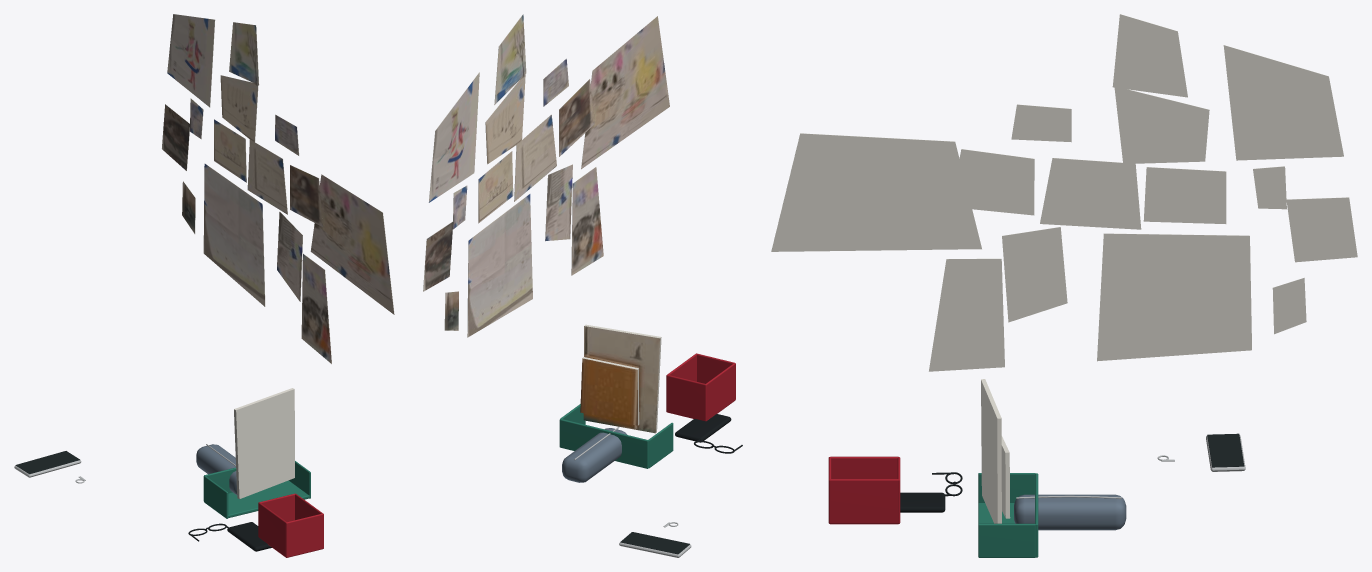
3 views of the same model, side by side, from view 1: azimuth 30°, elevation 25°; view 2: azimuth 150°, elevation 25°; view 3: azimuth 270°, elevation 25° (orthographic). The views are drawn at different scales.
Visible parts, largest first — view 1: source_original_wall_paper_05, source_original_wall_paper_10, source_original_white_back_paper, source_original_wall_paper_00, source_original_wall_paper_12, source_original_wall_paper_07, source_original_wall_paper_02, source_original_wall_paper_11, source_original_wall_paper_01, source_original_wall_paper_04, source_original_wall_paper_06, source_red_tub_side_y_-0.063 (+10 smaller); view 2: source_original_wall_paper_05, source_original_wall_paper_10, source_original_white_back_paper, source_original_wall_paper_00, source_original_gold_book, source_original_wall_paper_12, source_original_wall_paper_07, source_original_wall_paper_02, source_grayblue_pencil_case, source_green_holder_front, source_original_wall_paper_11, source_original_wall_paper_01 (+13 smaller); view 3: source_original_wall_paper_05, source_original_wall_paper_10, source_original_wall_paper_00, source_original_wall_paper_12, source_original_wall_paper_07, source_original_wall_paper_02, source_original_wall_paper_11, source_original_wall_paper_01, source_original_wall_paper_04, source_original_wall_paper_06, source_original_wall_paper_08, source_grayblue_pencil_case (+10 smaller).
Part boxes in pixels (x1,y1,x2,y2): source_original_wall_paper_05: (310, 174, 394, 314); source_original_wall_paper_10: (203, 163, 265, 306); source_original_white_back_paper: (234, 388, 294, 498); source_original_wall_paper_00: (167, 14, 215, 107); source_original_wall_paper_12: (301, 253, 331, 363); source_original_wall_paper_07: (247, 139, 287, 214); source_original_wall_paper_02: (220, 75, 258, 142); source_original_wall_paper_11: (277, 211, 302, 301); source_original_wall_paper_01: (229, 22, 259, 85); source_original_wall_paper_04: (290, 165, 323, 226); source_original_wall_paper_06: (214, 119, 246, 182); source_red_tub_side_y_-0.063: (285, 513, 323, 557); source_original_wall_paper_05: (581, 16, 669, 169); source_original_wall_paper_10: (467, 194, 532, 337); source_original_white_back_paper: (583, 324, 661, 433); source_original_wall_paper_00: (428, 72, 479, 202); source_original_gold_book: (580, 357, 639, 425); source_original_wall_paper_12: (571, 167, 603, 275); source_original_wall_paper_07: (514, 114, 556, 201); source_original_wall_paper_02: (485, 73, 525, 164); source_grayblue_pencil_case: (562, 428, 627, 482); source_green_holder_front: (559, 419, 648, 468); source_original_wall_paper_11: (545, 164, 572, 241); source_original_wall_paper_01: (494, 14, 526, 104); source_original_wall_paper_05: (771, 133, 981, 251); source_original_wall_paper_10: (1097, 233, 1251, 361); source_original_wall_paper_00: (1223, 45, 1343, 160); source_original_wall_paper_12: (929, 258, 1004, 371); source_original_wall_paper_07: (1040, 158, 1141, 229); source_original_wall_paper_02: (1114, 86, 1209, 163); source_original_wall_paper_11: (1002, 227, 1067, 322); source_original_wall_paper_01: (1112, 14, 1187, 97); source_original_wall_paper_04: (950, 149, 1034, 215); source_original_wall_paper_06: (1143, 167, 1226, 223); source_original_wall_paper_08: (1286, 197, 1357, 262); source_grayblue_pencil_case: (1014, 494, 1126, 530).
Size of the model in its own units: 0.518 by 1.1 by 1.07.
23 materials, 16 textured.
